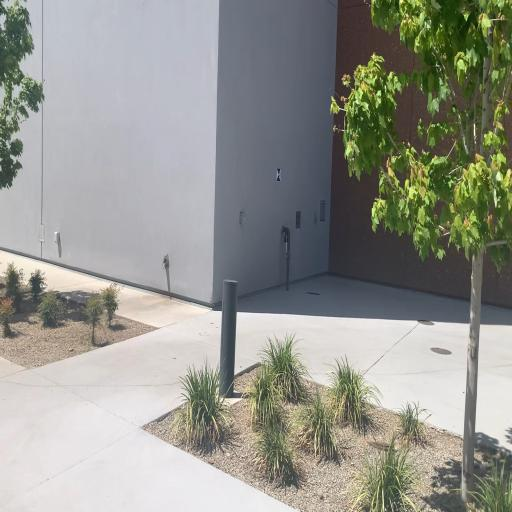target3: (276, 168, 281, 182)
